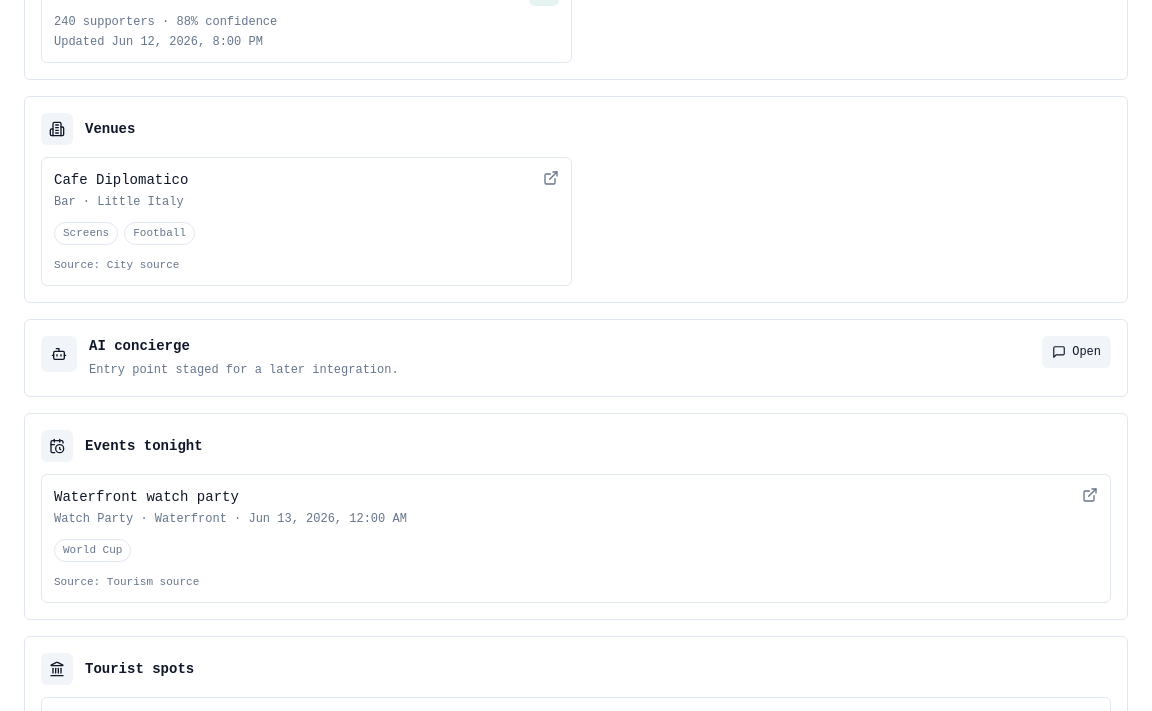
CityDashboard › keeps the AI concierge entry local on load and click
(page scrolled)
Click the button "Open" at [1077, 352], box [1042, 336, 1111, 368]
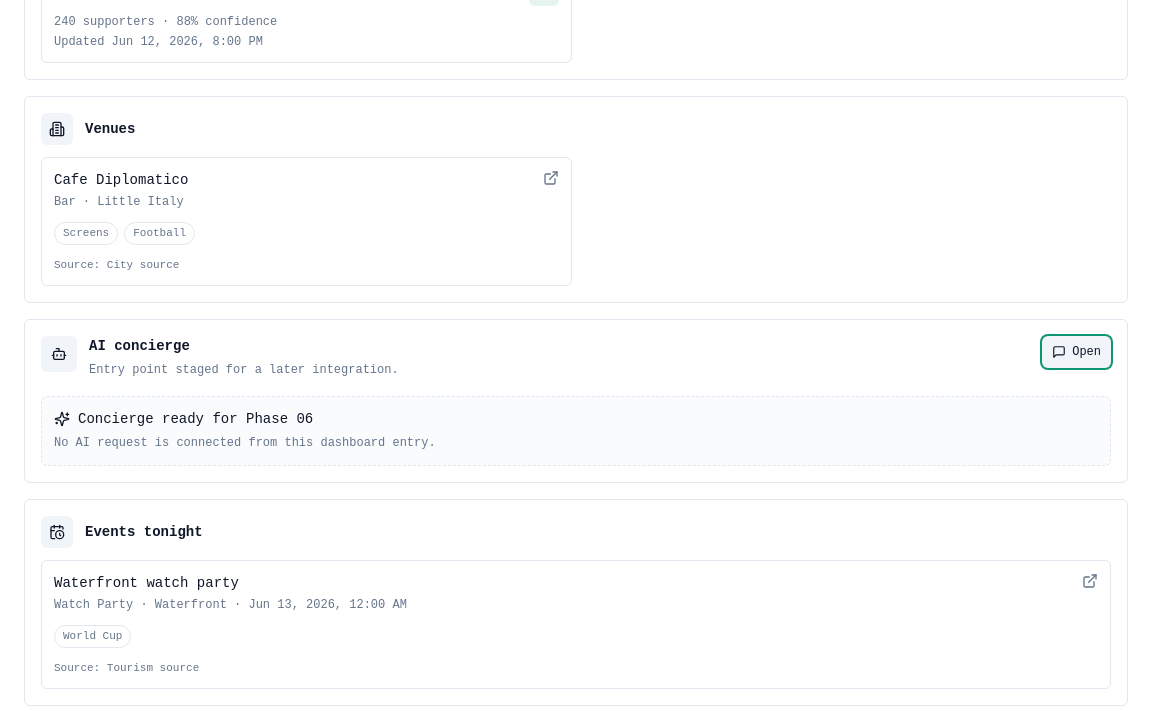
expect the text "Concierge ready for Phase 06" is shown: met, box [54, 411, 313, 427]
